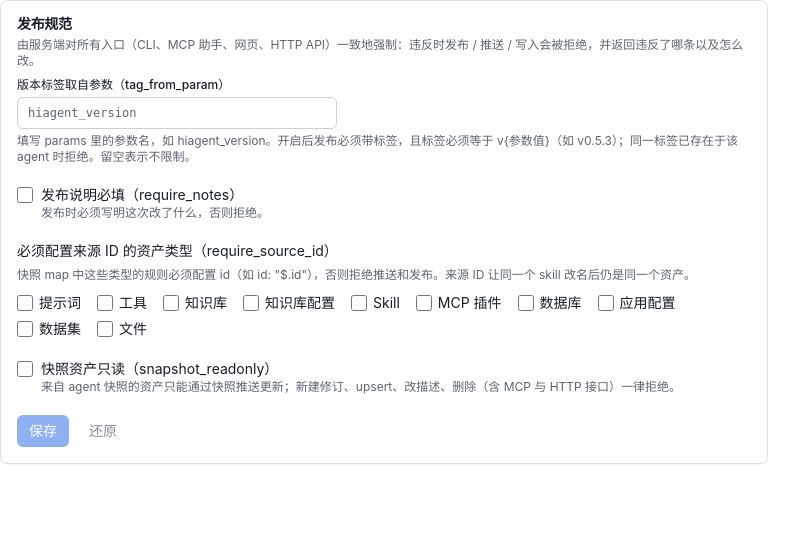
ConventionsTab › 服务端拒绝时在表单内显示原因
Click the checkbox labelled "发布说明必填（require_notes） 发布时必须写明这次改了什么，否则拒绝。".
click(25, 195)  # box [17, 187, 33, 203]
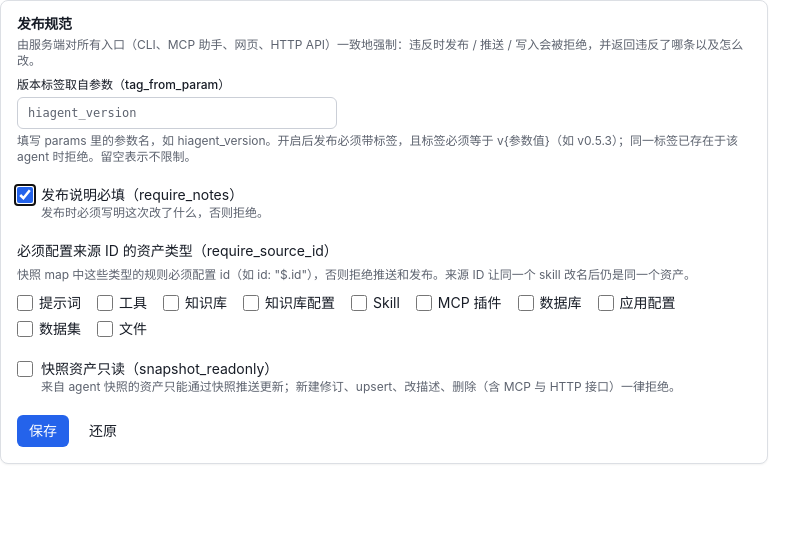
Click the button "保存".
click(43, 431)  # box [17, 415, 69, 447]
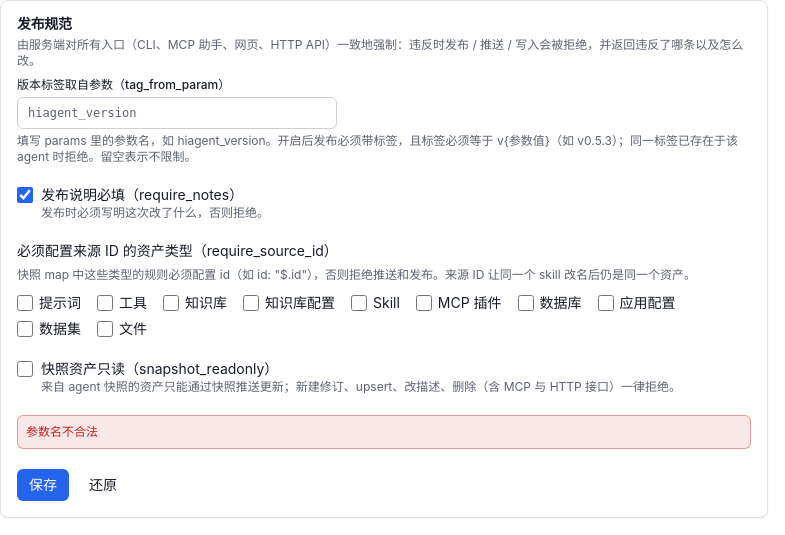
Expected: the message reads "参数名不合法", [26, 424, 98, 439]
